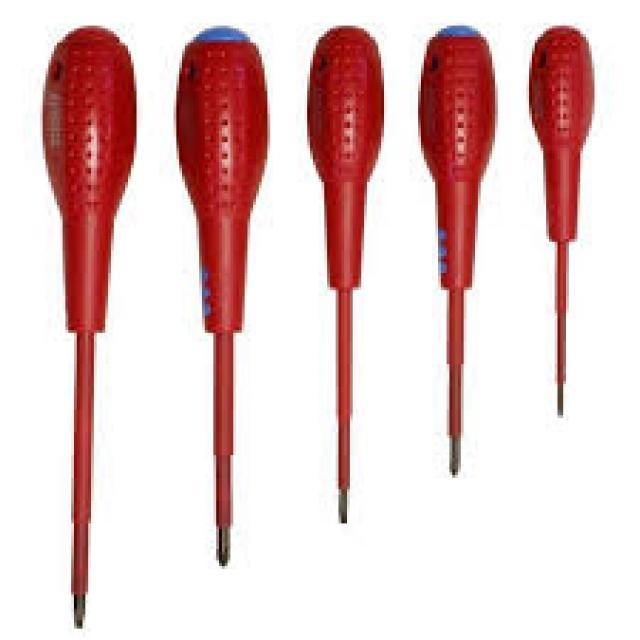screwdriver: (40, 26, 134, 632), (175, 24, 269, 570), (302, 25, 386, 532), (414, 20, 502, 481), (528, 23, 596, 441)
